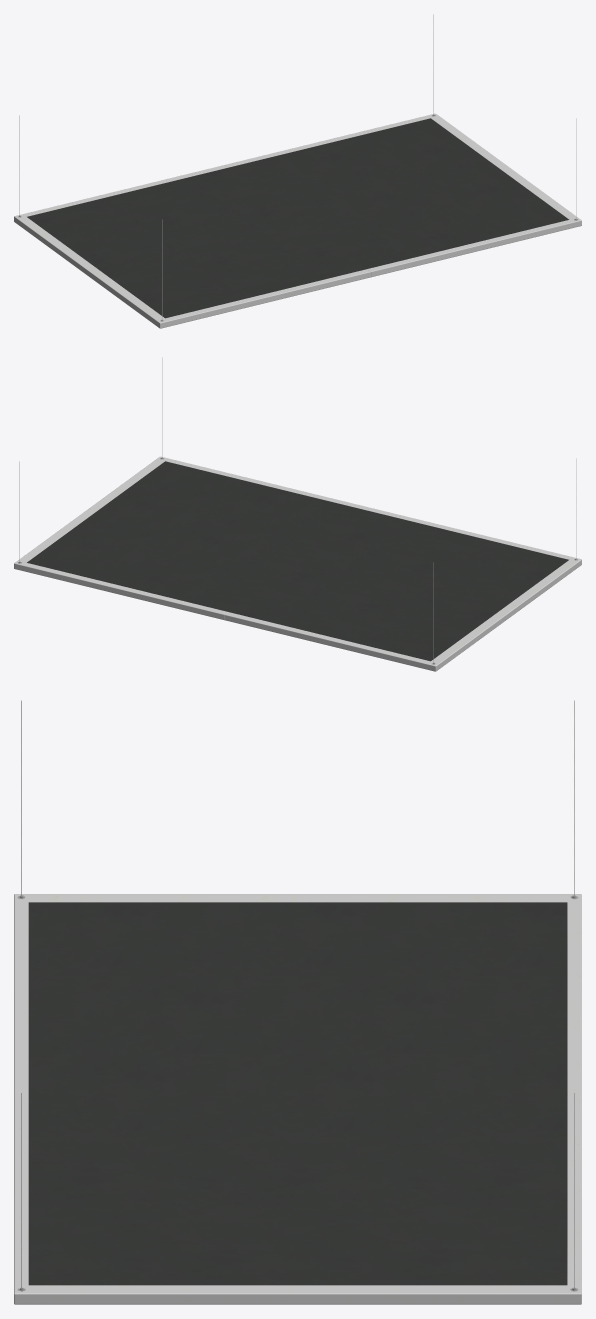
The model's file is lighting_overheadLed_lightPanel_a01.glb.
The picture shows the model from 3 angles, top to bottom: view 1: azimuth 30°, elevation 25°; view 2: azimuth 150°, elevation 25°; view 3: azimuth 270°, elevation 25°; orthographic projection. The views are drawn at different scales.
Parts seen in each view (by area): view 1: body_01_mesh_00; view 2: body_01_mesh_00; view 3: body_01_mesh_00.
Part boxes in pixels (x1,y1,x2,y2): body_01_mesh_00: [14, 14, 581, 328]; body_01_mesh_00: [14, 357, 581, 671]; body_01_mesh_00: [14, 700, 581, 1304].
Bounding box in the file's own units: 6 × 1.46 × 3.6.
Materials: 5 (4 with a texture image).
